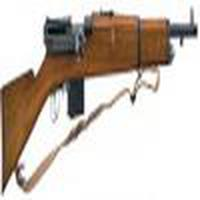gun: (1, 10, 185, 186)
